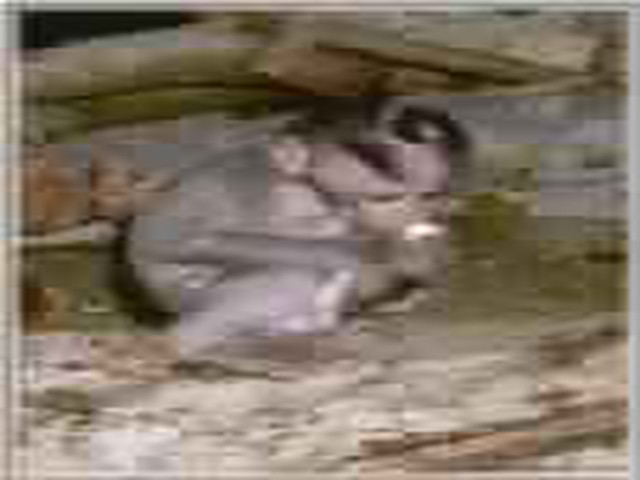Monkey: (104, 100, 471, 346)
